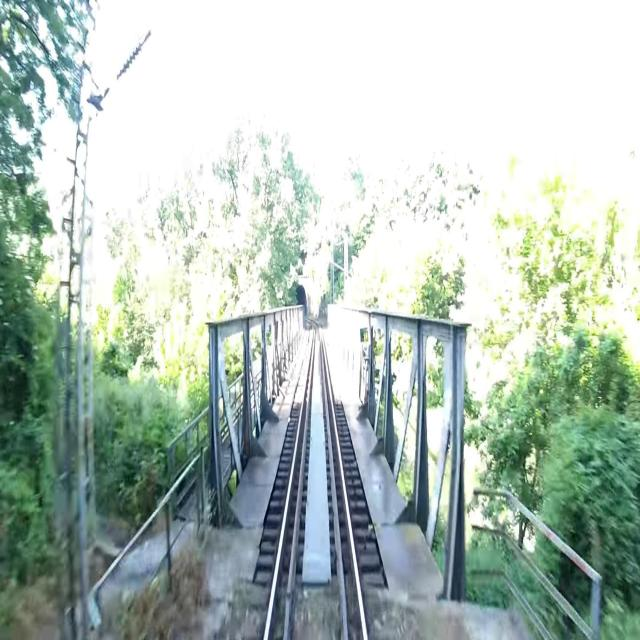rail-track: (268, 322, 363, 639)
